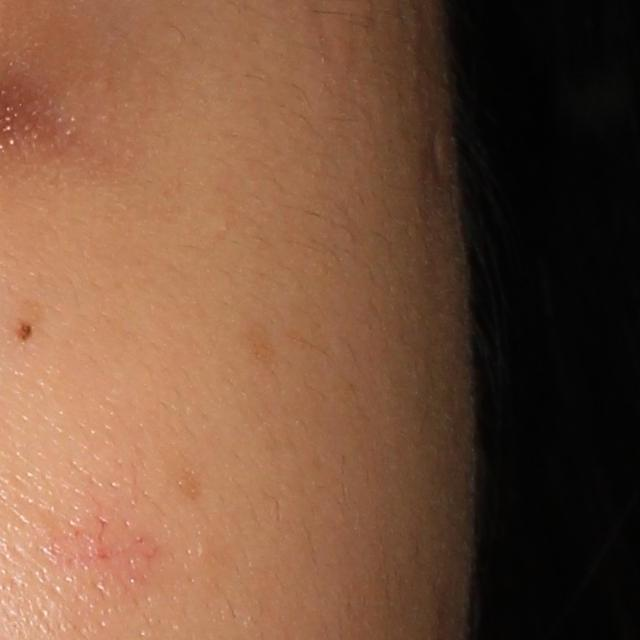melasma: (241, 315, 274, 377), (168, 464, 208, 504)
nevus: (9, 318, 33, 344)
